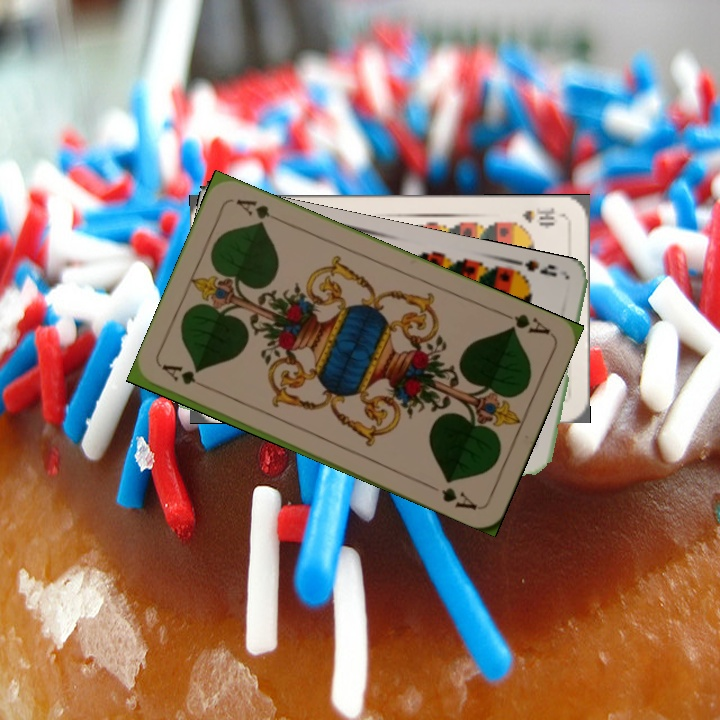GA: (505, 310, 553, 337), (158, 360, 199, 388)
S10: (517, 203, 557, 228)
S9: (506, 255, 560, 284)
